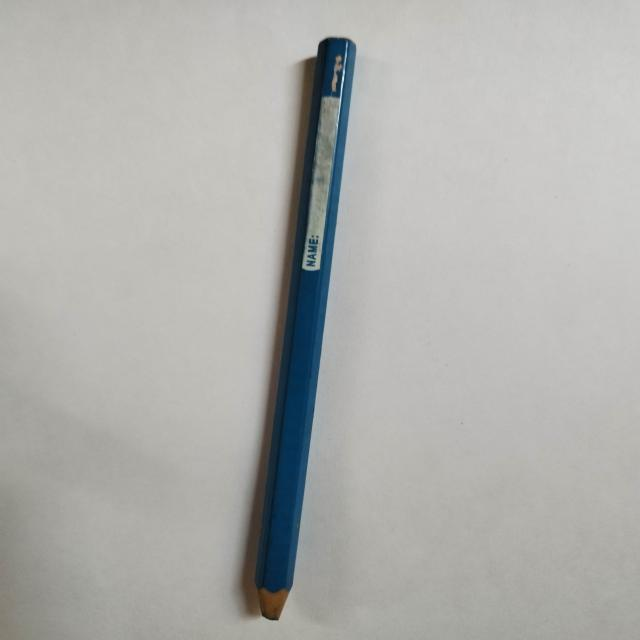pencil: (254, 36, 356, 621)
